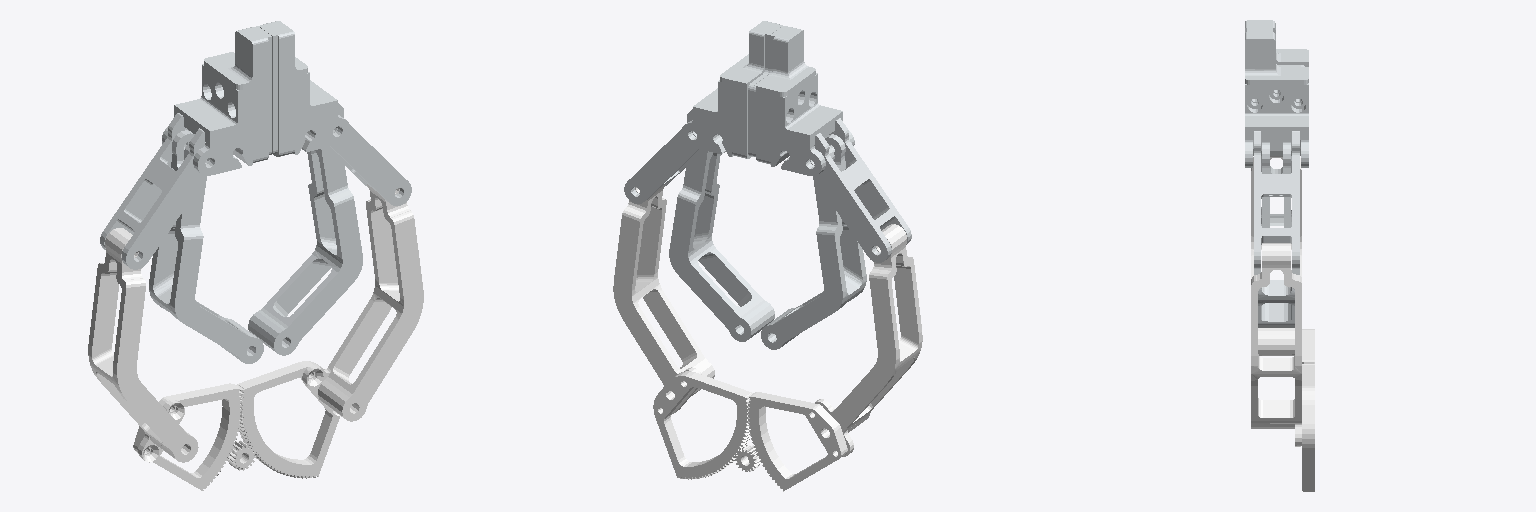
robot.urdf — monte_gripper:
<?xml version="1.0" encoding="utf-8"?>
<!-- This URDF was automatically created by SolidWorks to URDF Exporter! Originally created by Stephen Brawner (brawner@gmail.com) 
     Commit Version: 1.6.0-4-g7f85cfe  Build Version: 1.6.7995.38578
     For more information, please see http://wiki.ros.org/sw_urdf_exporter -->
<robot
  name="monte_gripper">
  <link
    name="base_link">
    <inertial>
      <origin
        xyz="0.00044138 -0.002631 0.034655"
        rpy="0 0 0" />
      <mass
        value="0.080694" />
      <inertia
        ixx="4.4013E-05"
        ixy="3.2396E-08"
        ixz="4.9989E-07"
        iyy="6.4372E-05"
        iyz="-5.483E-07"
        izz="4.3542E-05" />
    </inertial>
    <visual>
      <origin
        xyz="0 0 0"
        rpy="0 0 0" />
      <geometry>
        <mesh
          filename="../meshes/gripper/base_link.STL" />
      </geometry>
      <material
        name="">
        <color
          rgba="0.89804 0.91765 0.92941 1" />
      </material>
    </visual>
    <collision>
      <origin
        xyz="0 0 0"
        rpy="0 0 0" />
      <geometry>
        <mesh
          filename="../meshes/gripper/base_link.STL" />
      </geometry>
    </collision>
  </link>
  <link
    name="drive_gear">
    <inertial>
      <origin
        xyz="-3.30863181733608E-05 1.50920942409982E-16 1.19033587394138E-05"
        rpy="0 0 0" />
      <mass
        value="0.000219454076375385" />
      <inertia
        ixx="1.68298382760879E-09"
        ixy="-1.75088011440702E-24"
        ixz="3.60049327378219E-12"
        iyy="2.46049183756815E-09"
        iyz="1.02353954864556E-24"
        izz="1.69169717120485E-09" />
    </inertial>
    <visual>
      <origin
        xyz="0 0 0"
        rpy="0 0 0" />
      <geometry>
        <mesh
          filename="../meshes/gripper/drive_gear.STL" />
      </geometry>
      <material
        name="">
        <color
          rgba="1 1 1 1" />
      </material>
    </visual>
    <collision>
      <origin
        xyz="0 0 0"
        rpy="0 0 0" />
      <geometry>
        <mesh
          filename="../meshes/gripper/drive_gear.STL" />
      </geometry>
    </collision>
  </link>
  <joint
    name="drive_gear_joint"
    type="revolute">
    <origin
      xyz="0.0011556 0.0121 0.036"
      rpy="0 0 0" />
    <parent
      link="base_link" />
    <child
      link="drive_gear" />
    <axis
      xyz="0 1 0" />
    <limit
      lower="0"
      upper="5.8469"
      effort="50"
      velocity="2" />
  </joint>
  <link
    name="right_outer_knuckle">
    <inertial>
      <origin
        xyz="0.0101367391300856 -0.0106013199589881 0.0269089551812032"
        rpy="0 0 0" />
      <mass
        value="0.0201205438364704" />
      <inertia
        ixx="1.52274787360094E-05"
        ixy="7.994491755009E-08"
        ixz="-3.51781090519577E-06"
        iyy="1.63979540077483E-05"
        iyz="1.80922965756195E-07"
        izz="2.9521867062562E-06" />
    </inertial>
    <visual>
      <origin
        xyz="0 0 0"
        rpy="0 0 0" />
      <geometry>
        <mesh
          filename="../meshes/gripper/right_outer_knuckle.STL" />
      </geometry>
      <material
        name="">
        <color
          rgba="1 1 1 1" />
      </material>
    </visual>
    <collision>
      <origin
        xyz="0 0 0"
        rpy="0 0 0" />
      <geometry>
        <mesh
          filename="../meshes/gripper/right_outer_knuckle.STL" />
      </geometry>
    </collision>
  </link>
  <joint
    name="right_outer_knuckle_joint"
    type="revolute">
    <origin
      xyz="0.03375 0.0121 0.055535"
      rpy="0 0 0" />
    <parent
      link="base_link" />
    <child
      link="right_outer_knuckle" />
    <axis
      xyz="0 1 0" />
    <limit
      lower="0"
      upper="0.75"
      effort="50"
      velocity="2" />
    <mimic
      joint="drive_gear_joint"
      multiplier="0.1259"
      offset="0" />
  </joint>

  <link
    name="right_finger">
    <inertial>
      <origin
        xyz="-0.0327726846908557 -0.000698948037922109 0.0346731629390936"
        rpy="0 0 0" />
      <mass
        value="0.0363119735949383" />
      <inertia
        ixx="5.68381883190717E-06"
        ixy="-2.0961651817363E-09"
        ixz="1.08349886769072E-06"
        iyy="4.93104908908506E-06"
        iyz="2.03106989283829E-07"
        izz="3.25543613051104E-06" />
    </inertial>
    <visual>
      <origin
        xyz="0 0 0"
        rpy="0 0 0" />
      <geometry>
        <mesh
          filename="../meshes/gripper/right_finger.STL" />
      </geometry>
      <material
        name="">
        <color
          rgba="0.898039215686275 0.917647058823529 0.929411764705882 1" />
      </material>
    </visual>
    <collision>
      <origin
        xyz="0 0 0"
        rpy="0 0 0" />
      <geometry>
        <mesh
          filename="../meshes/gripper/right_finger.STL" />
      </geometry>
    </collision>
  </link>
  <joint
    name="right_finger_joint"
    type="revolute">
    <origin
      xyz="0.0185705506993471 -0.0120999999999998 0.0778147456895092"
      rpy="0 0 0" />
    <parent
      link="right_outer_knuckle" />
    <child
      link="right_finger" />
    <axis
      xyz="0 -1 0" />
    <limit
      lower="0"
      upper="0.75"
      effort="50"
      velocity="2" />
    <mimic
      joint="drive_gear_joint"
      multiplier="0.1259"
      offset="0" />
  </joint>
  <link
    name="right_inner_knuckle">
    <inertial>
      <origin
        xyz="0.0165754431154624 1.41151802017514E-08 0.0308729804866049"
        rpy="0 0 0" />
      <mass
        value="0.0178591264569997" />
      <inertia
        ixx="1.25649999783808E-05"
        ixy="-1.33032750094102E-12"
        ixz="-2.71364296161485E-06"
        iyy="1.3661171617545E-05"
        iyz="1.89165367387587E-12"
        izz="2.36260193451048E-06" />
    </inertial>
    <visual>
      <origin
        xyz="0 0 0"
        rpy="0 0 0" />
      <geometry>
        <mesh
          filename="../meshes/gripper/right_inner_knuckle.STL" />
      </geometry>
      <material
        name="">
        <color
          rgba="0.898039215686275 0.917647058823529 0.929411764705882 1" />
      </material>
    </visual>
    <collision>
      <origin
        xyz="0 0 0"
        rpy="0 0 0" />
      <geometry>
        <mesh
          filename="../meshes/gripper/right_inner_knuckle.STL" />
      </geometry>
    </collision>
  </link>
  <joint
    name="right_inner_knuckle_joint"
    type="revolute">
    <origin
      xyz="0.007 -0.0004 0.086606"
      rpy="0 0 0" />
    <parent
      link="base_link" />
    <child
      link="right_inner_knuckle" />
    <axis
      xyz="0 1 0" />
    <limit
      lower="0"
      upper="0.75"
      effort="50"
      velocity="2" />
    <mimic
      joint="drive_gear_joint"
      multiplier="0.1259"
      offset="0" />
  </joint>
  <link
    name="left_outer_knuckle">
    <inertial>
      <origin
        xyz="-0.0187019317711781 -0.0139950556017495 0.0249288855358612"
        rpy="0 0 0" />
      <mass
        value="0.038624346273152" />
      <inertia
        ixx="2.08577688249856E-05"
        ixy="-2.44546339888465E-07"
        ixz="1.00481634314983E-05"
        iyy="3.28987042431633E-05"
        iyz="3.16153641603158E-07"
        izz="1.57360122074111E-05" />
    </inertial>
    <visual>
      <origin
        xyz="0 0 0"
        rpy="0 0 0" />
      <geometry>
        <mesh
          filename="../meshes/gripper/left_outer_knuckle.STL" />
      </geometry>
      <material
        name="">
        <color
          rgba="1 1 1 1" />
      </material>
    </visual>
    <collision>
      <origin
        xyz="0 0 0"
        rpy="0 0 0" />
      <geometry>
        <mesh
          filename="../meshes/gripper/left_outer_knuckle.STL" />
      </geometry>
    </collision>
  </link>
  <joint
    name="left_outer_knuckle_joint"
    type="revolute">
    <origin
      xyz="-0.03375 0.0146 0.055535"
      rpy="0 0 0" />
    <parent
      link="base_link" />
    <child
      link="left_outer_knuckle" />
    <axis
      xyz="0 -1 0" />
    <limit
      lower="0"
      upper="0.75"
      effort="50"
      velocity="2" />
    <mimic
      joint="drive_gear_joint"
      multiplier="0.1259"
      offset="0" />
  </joint>
  <link
    name="left_finger">
    <inertial>
      <origin
        xyz="0.0368552847617587 -0.00948093376934073 0.0371391646401583"
        rpy="0 0 0" />
      <mass
        value="0.0455797748456277" />
      <inertia
        ixx="7.56060232542587E-06"
        ixy="-2.13896451817098E-10"
        ixz="-1.10349633046575E-06"
        iyy="6.38046372437533E-06"
        iyz="4.06221095130745E-07"
        izz="3.74336534504737E-06" />
    </inertial>
    <visual>
      <origin
        xyz="0 0 0"
        rpy="0 0 0" />
      <geometry>
        <mesh
          filename="../meshes/gripper/left_finger.STL" />
      </geometry>
      <material
        name="">
        <color
          rgba="0.898039215686275 0.917647058823529 0.929411764705882 1" />
      </material>
    </visual>
    <collision>
      <origin
        xyz="0 0 0"
        rpy="0 0 0" />
      <geometry>
        <mesh
          filename="../meshes/gripper/left_finger.STL" />
      </geometry>
    </collision>
  </link>
  <joint
    name="left_finger_joint"
    type="revolute">
    <origin
      xyz="-0.018576411114186 -0.00599999999999792 0.0778133468636117"
      rpy="0 0 0" />
    <parent
      link="left_outer_knuckle" />
    <child
      link="left_finger" />
    <axis
      xyz="0 1 0" />
    <limit
      lower="0"
      upper="0.75"
      effort="50"
      velocity="2" />
    <mimic
      joint="drive_gear_joint"
      multiplier="0.1259"
      offset="0" />
  </joint>
  <link
    name="left_inner_knuckle">
    <inertial>
      <origin
        xyz="-0.0251382642949832 -0.0192999857180728 0.0202389822183351"
        rpy="0 0 0" />
      <mass
        value="0.0371734367635767" />
      <inertia
        ixx="1.48412957804551E-05"
        ixy="-2.9123906877321E-13"
        ixz="3.17859628409173E-06"
        iyy="2.84354757958156E-05"
        iyz="-1.05418826770397E-13"
        izz="1.62302311388252E-05" />
    </inertial>
    <visual>
      <origin
        xyz="0 0 0"
        rpy="0 0 0" />
      <geometry>
        <mesh
          filename="../meshes/gripper/left_inner_knuckle.STL" />
      </geometry>
      <material
        name="">
        <color
          rgba="0.898039215686275 0.917647058823529 0.929411764705882 1" />
      </material>
    </visual>
    <collision>
      <origin
        xyz="0 0 0"
        rpy="0 0 0" />
      <geometry>
        <mesh
          filename="../meshes/gripper/left_inner_knuckle.STL" />
      </geometry>
    </collision>
  </link>
  <joint
    name="left_inner_knuckle_joint"
    type="revolute">
    <origin
      xyz="-0.007 0.0189 0.086606"
      rpy="0 0 0" />
    <parent
      link="base_link" />
    <child
      link="left_inner_knuckle" />
    <axis
      xyz="0 -1 0" />
    <limit
      lower="0"
      upper="0.75"
      effort="50"
      velocity="2" />
    <mimic
      joint="drive_gear_joint"
      multiplier="0.1259"
      offset="0" />
  </joint>

  <link
    name="link_tcp">
  </link>
  <joint
    name="joint_tcp"
    type="fixed">
    <origin
      xyz="7.0199E-05 -0.0004 0.19142"
      rpy="0 1.3042E-05 0" />
    <parent
      link="base_link" />
    <child
      link="link_tcp" />
    <axis
      xyz="0 0 0" />
  </joint>
</robot>

--- Facts derived from the render (not from the file) ---
The picture shows the robot from 3 angles, left to right: view 1: azimuth 30°, elevation 25°; view 2: azimuth 150°, elevation 25°; view 3: azimuth 270°, elevation 25°; orthographic projection.
Robot: monte_gripper — 9 links, 8 joints (7 revolute, 1 fixed); root link base_link; default pose: all joints at 0.
Links seen in each view (by area): view 1: left_finger, right_outer_knuckle, left_outer_knuckle, right_inner_knuckle, right_finger, left_inner_knuckle, drive_gear; view 2: left_finger, right_outer_knuckle, left_outer_knuckle, right_inner_knuckle, right_finger, left_inner_knuckle; view 3: right_finger, right_outer_knuckle, right_inner_knuckle, left_outer_knuckle, left_finger.
Link boxes in pixels (x1,y1,x2,y2): left_finger: (100,26,271,269); right_outer_knuckle: (236,184,423,478); left_outer_knuckle: (88,228,241,490); right_inner_knuckle: (248,147,362,355); right_finger: (259,21,411,205); left_inner_knuckle: (149,130,263,363); drive_gear: (227,440,255,470); left_finger: (753,26,911,262); right_outer_knuckle: (613,184,752,479); left_outer_knuckle: (748,224,922,491); right_inner_knuckle: (669,149,774,341); right_finger: (624,21,782,203); left_inner_knuckle: (761,134,866,349); right_finger: (1245,30,1308,268); right_outer_knuckle: (1251,243,1314,491); right_inner_knuckle: (1254,142,1299,327); left_outer_knuckle: (1251,156,1314,364); left_finger: (1245,20,1308,66).
Size in the robot's own frame: 0.1229 by 0.0275 by 0.1849 metres.
Meshes: 8 distinct files referenced, 7 mesh visuals loaded (7 binary STL); not drawn: 1 (reference not matched to a file when rendering).
